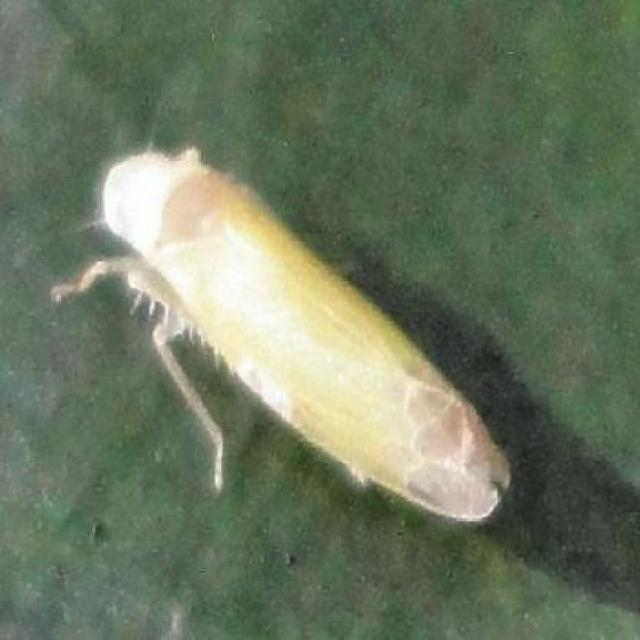green-leafhopper: (45, 141, 511, 523)
